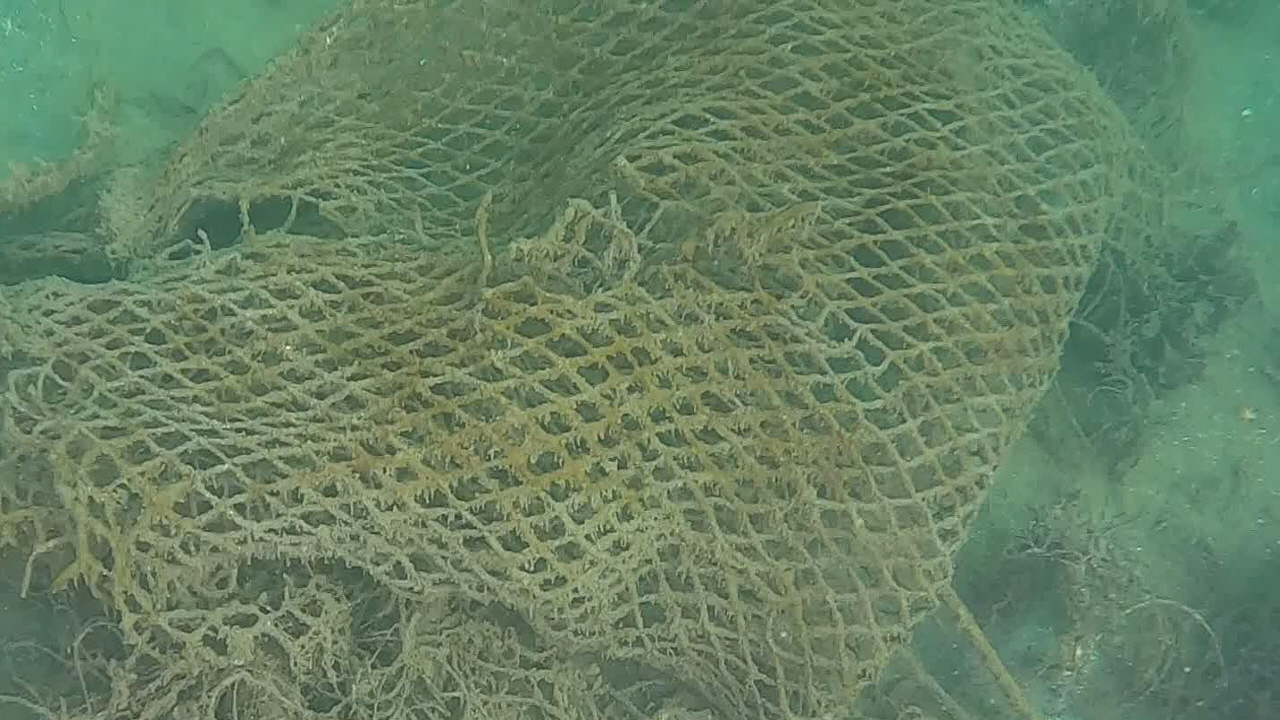fish net: (0, 2, 1164, 720)
